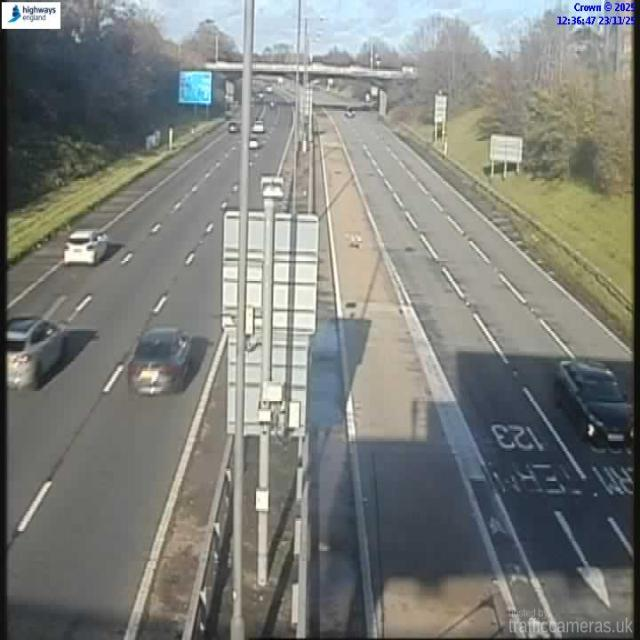foliage: (0, 0, 204, 216), (483, 11, 632, 193), (408, 13, 488, 107)
